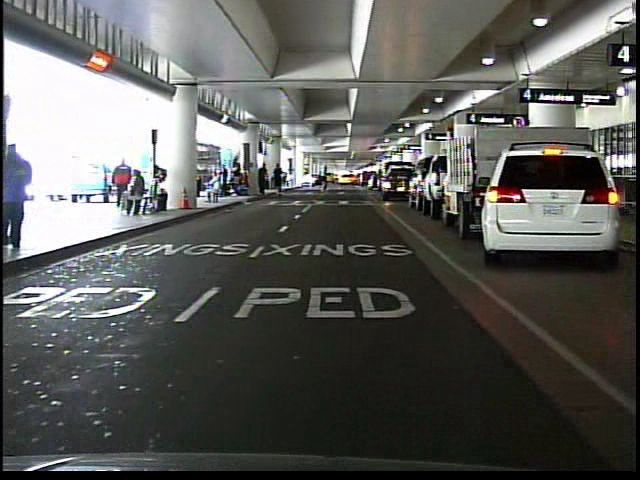person: (6, 142, 41, 256), (204, 171, 226, 207), (314, 164, 332, 195)
